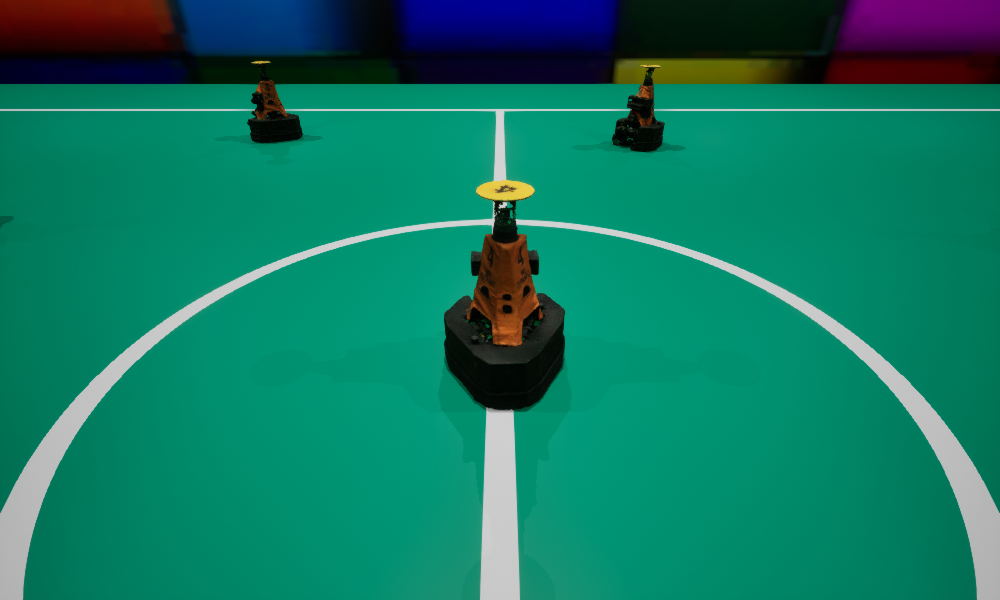o: (444, 180, 564, 409), (247, 61, 302, 142), (612, 65, 664, 150)
